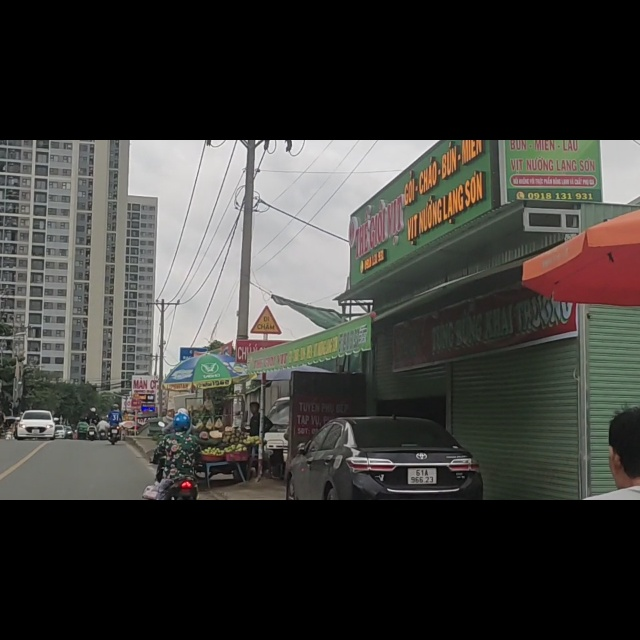bien_nguy_hiem: (251, 293, 281, 345)
